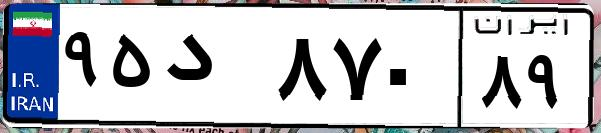0: (385, 28, 445, 110)
5: (110, 28, 158, 98)
7: (330, 28, 385, 110)
8: (270, 28, 330, 110), (475, 38, 525, 113)
9: (57, 26, 110, 100), (525, 38, 570, 115)
د: (158, 20, 270, 120)
